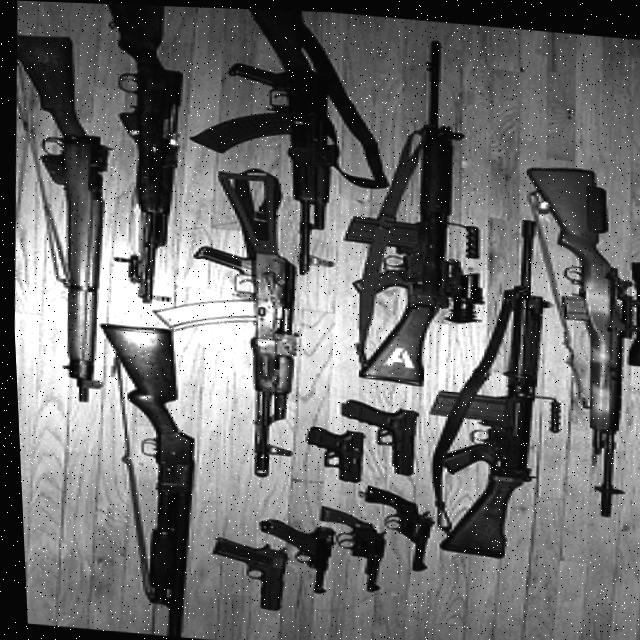firearm: (324, 27, 499, 392), (410, 206, 572, 565), (131, 162, 308, 481), (504, 157, 640, 518), (1, 28, 129, 406), (169, 5, 341, 276), (79, 318, 207, 638), (85, 2, 201, 307)
pistol: (347, 482, 436, 570), (306, 501, 388, 593), (331, 394, 422, 475), (199, 534, 291, 613), (245, 517, 339, 594), (297, 423, 364, 482)
